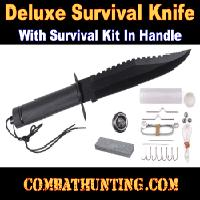knife: (5, 46, 194, 130)
